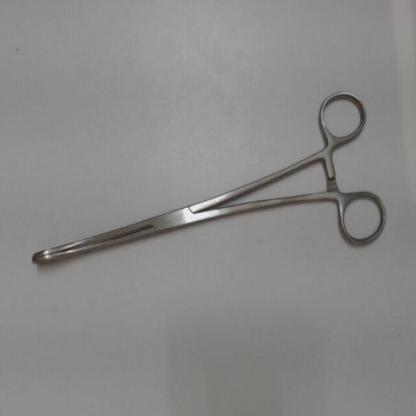Sponge Forceps: (20, 83, 392, 278)
